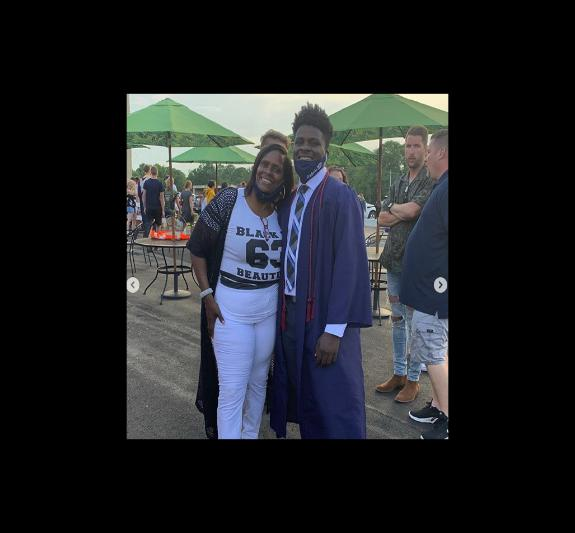mask_weared_incorrect: (290, 133, 325, 173), (258, 156, 284, 198)
without_mask: (425, 142, 443, 177), (404, 139, 424, 168)
